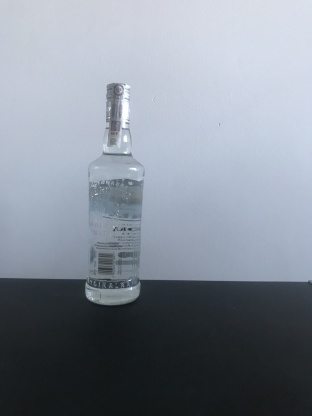nakretka: (103, 79, 133, 126)
